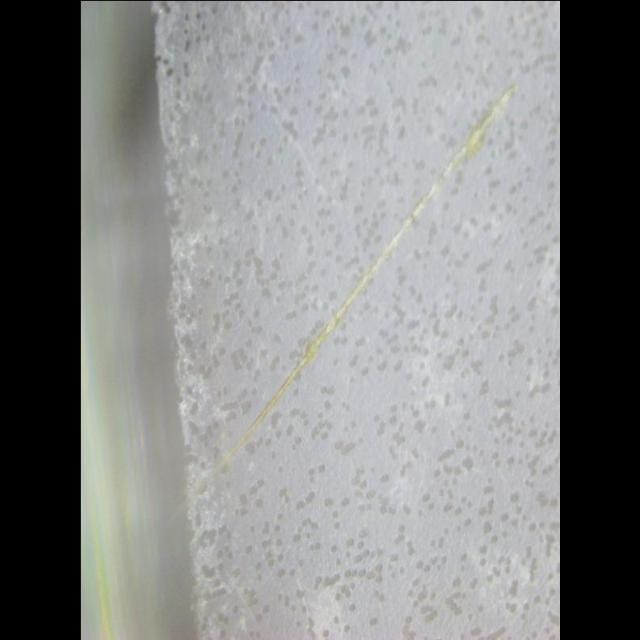Fibre: (186, 76, 522, 512)
